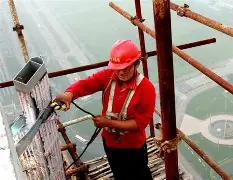safety belt: (100, 71, 146, 135)
